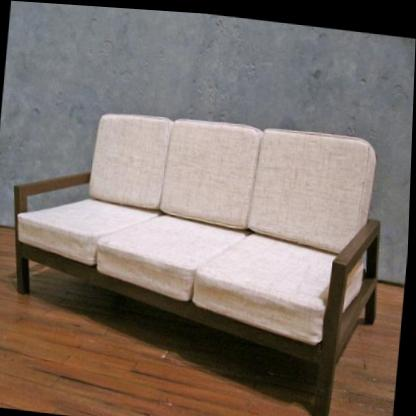Sofa: (0, 95, 395, 416)
